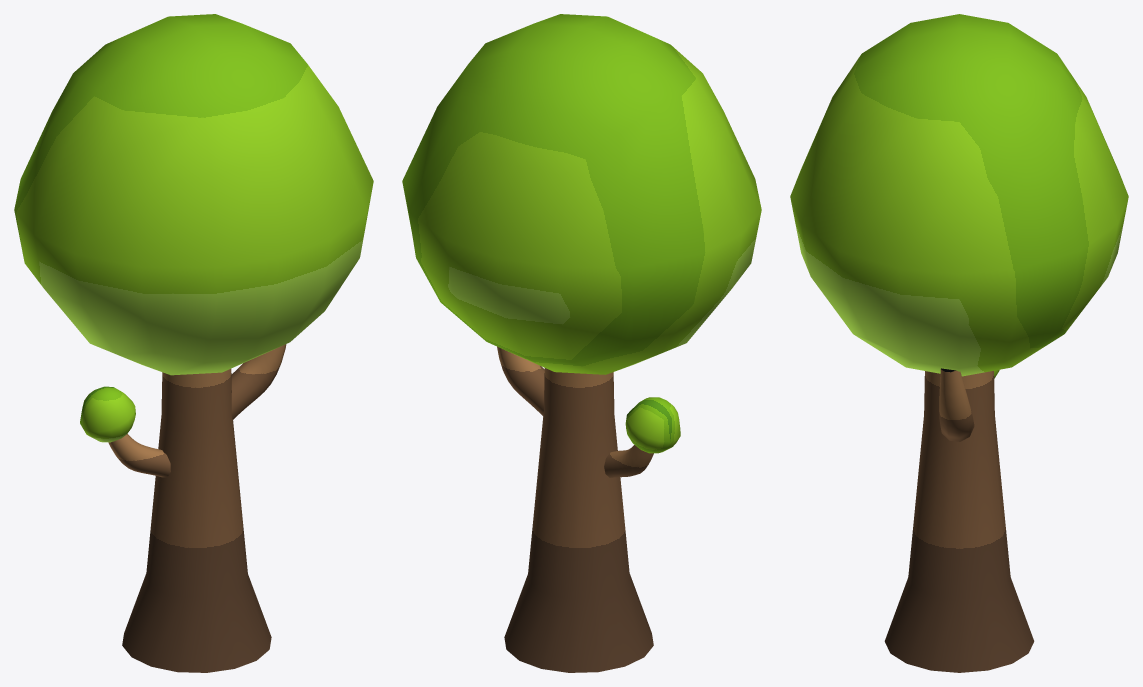
The model's file is Tree_tall.fbx.
3 renders of one model, left to right at view 1: azimuth 30°, elevation 25°; view 2: azimuth 150°, elevation 25°; view 3: azimuth 270°, elevation 25°, orthographic.
Parts seen in each view (by area): view 1: Roundcube.001; view 2: Roundcube.001; view 3: Roundcube.001.
Boxes of the visible parts, x1,y1,x2,y2 form: Roundcube.001: (14, 14, 373, 672); Roundcube.001: (402, 14, 761, 672); Roundcube.001: (790, 14, 1128, 672).
Bounding box in the file's own units: 179 × 329 × 165.
